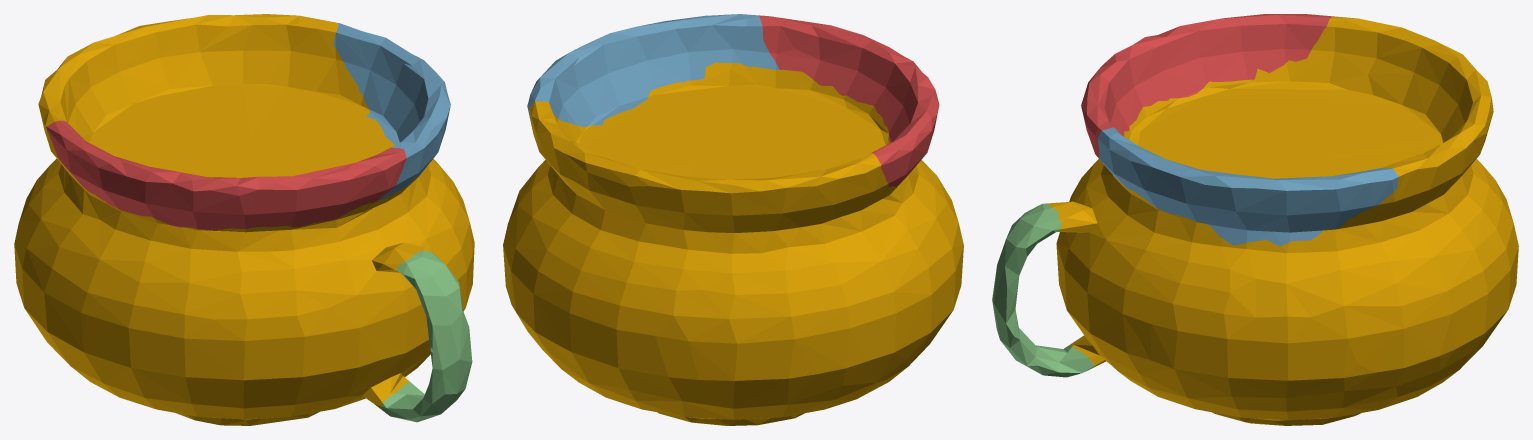
Rendered from mode_3_4pcs.glb.
3 renders of one model, left to right at view 1: azimuth 30°, elevation 25°; view 2: azimuth 150°, elevation 25°; view 3: azimuth 270°, elevation 25°, orthographic.
Parts seen in each view (by area): view 1: piece_0.obj, piece_1.obj, piece_2.obj, piece_3.obj; view 2: piece_0.obj, piece_2.obj, piece_1.obj; view 3: piece_0.obj, piece_2.obj, piece_1.obj, piece_3.obj.
Boxes of the visible parts, box(x1,y1,x2,y2) form: piece_0.obj: box(14, 14, 474, 425); piece_1.obj: box(46, 120, 406, 230); piece_2.obj: box(333, 23, 450, 201); piece_3.obj: box(381, 250, 472, 422); piece_0.obj: box(503, 62, 963, 425); piece_2.obj: box(527, 14, 779, 126); piece_1.obj: box(759, 15, 939, 187); piece_0.obj: box(1047, 16, 1518, 425); piece_2.obj: box(1097, 127, 1398, 246); piece_1.obj: box(1081, 14, 1333, 160); piece_3.obj: box(992, 203, 1094, 377).
Bounding box in the file's own units: 0.878 × 0.605 × 1.
